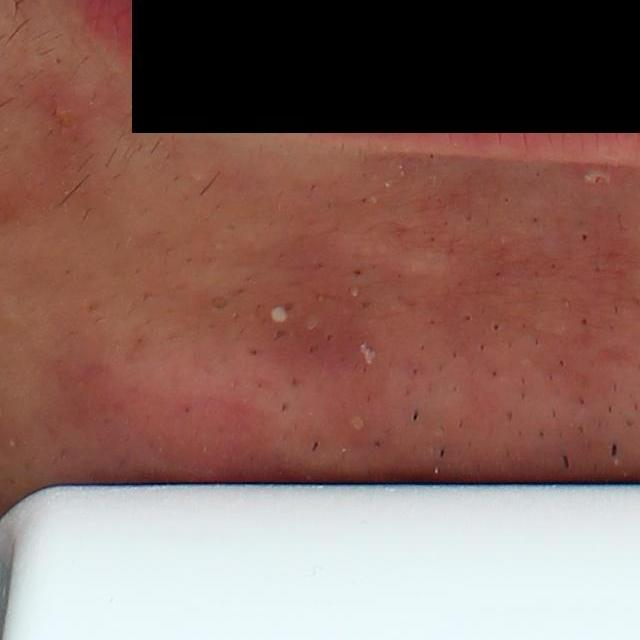comedo: (208, 289, 232, 319)
pustule: (571, 163, 617, 190), (256, 299, 292, 331), (346, 409, 382, 440)
